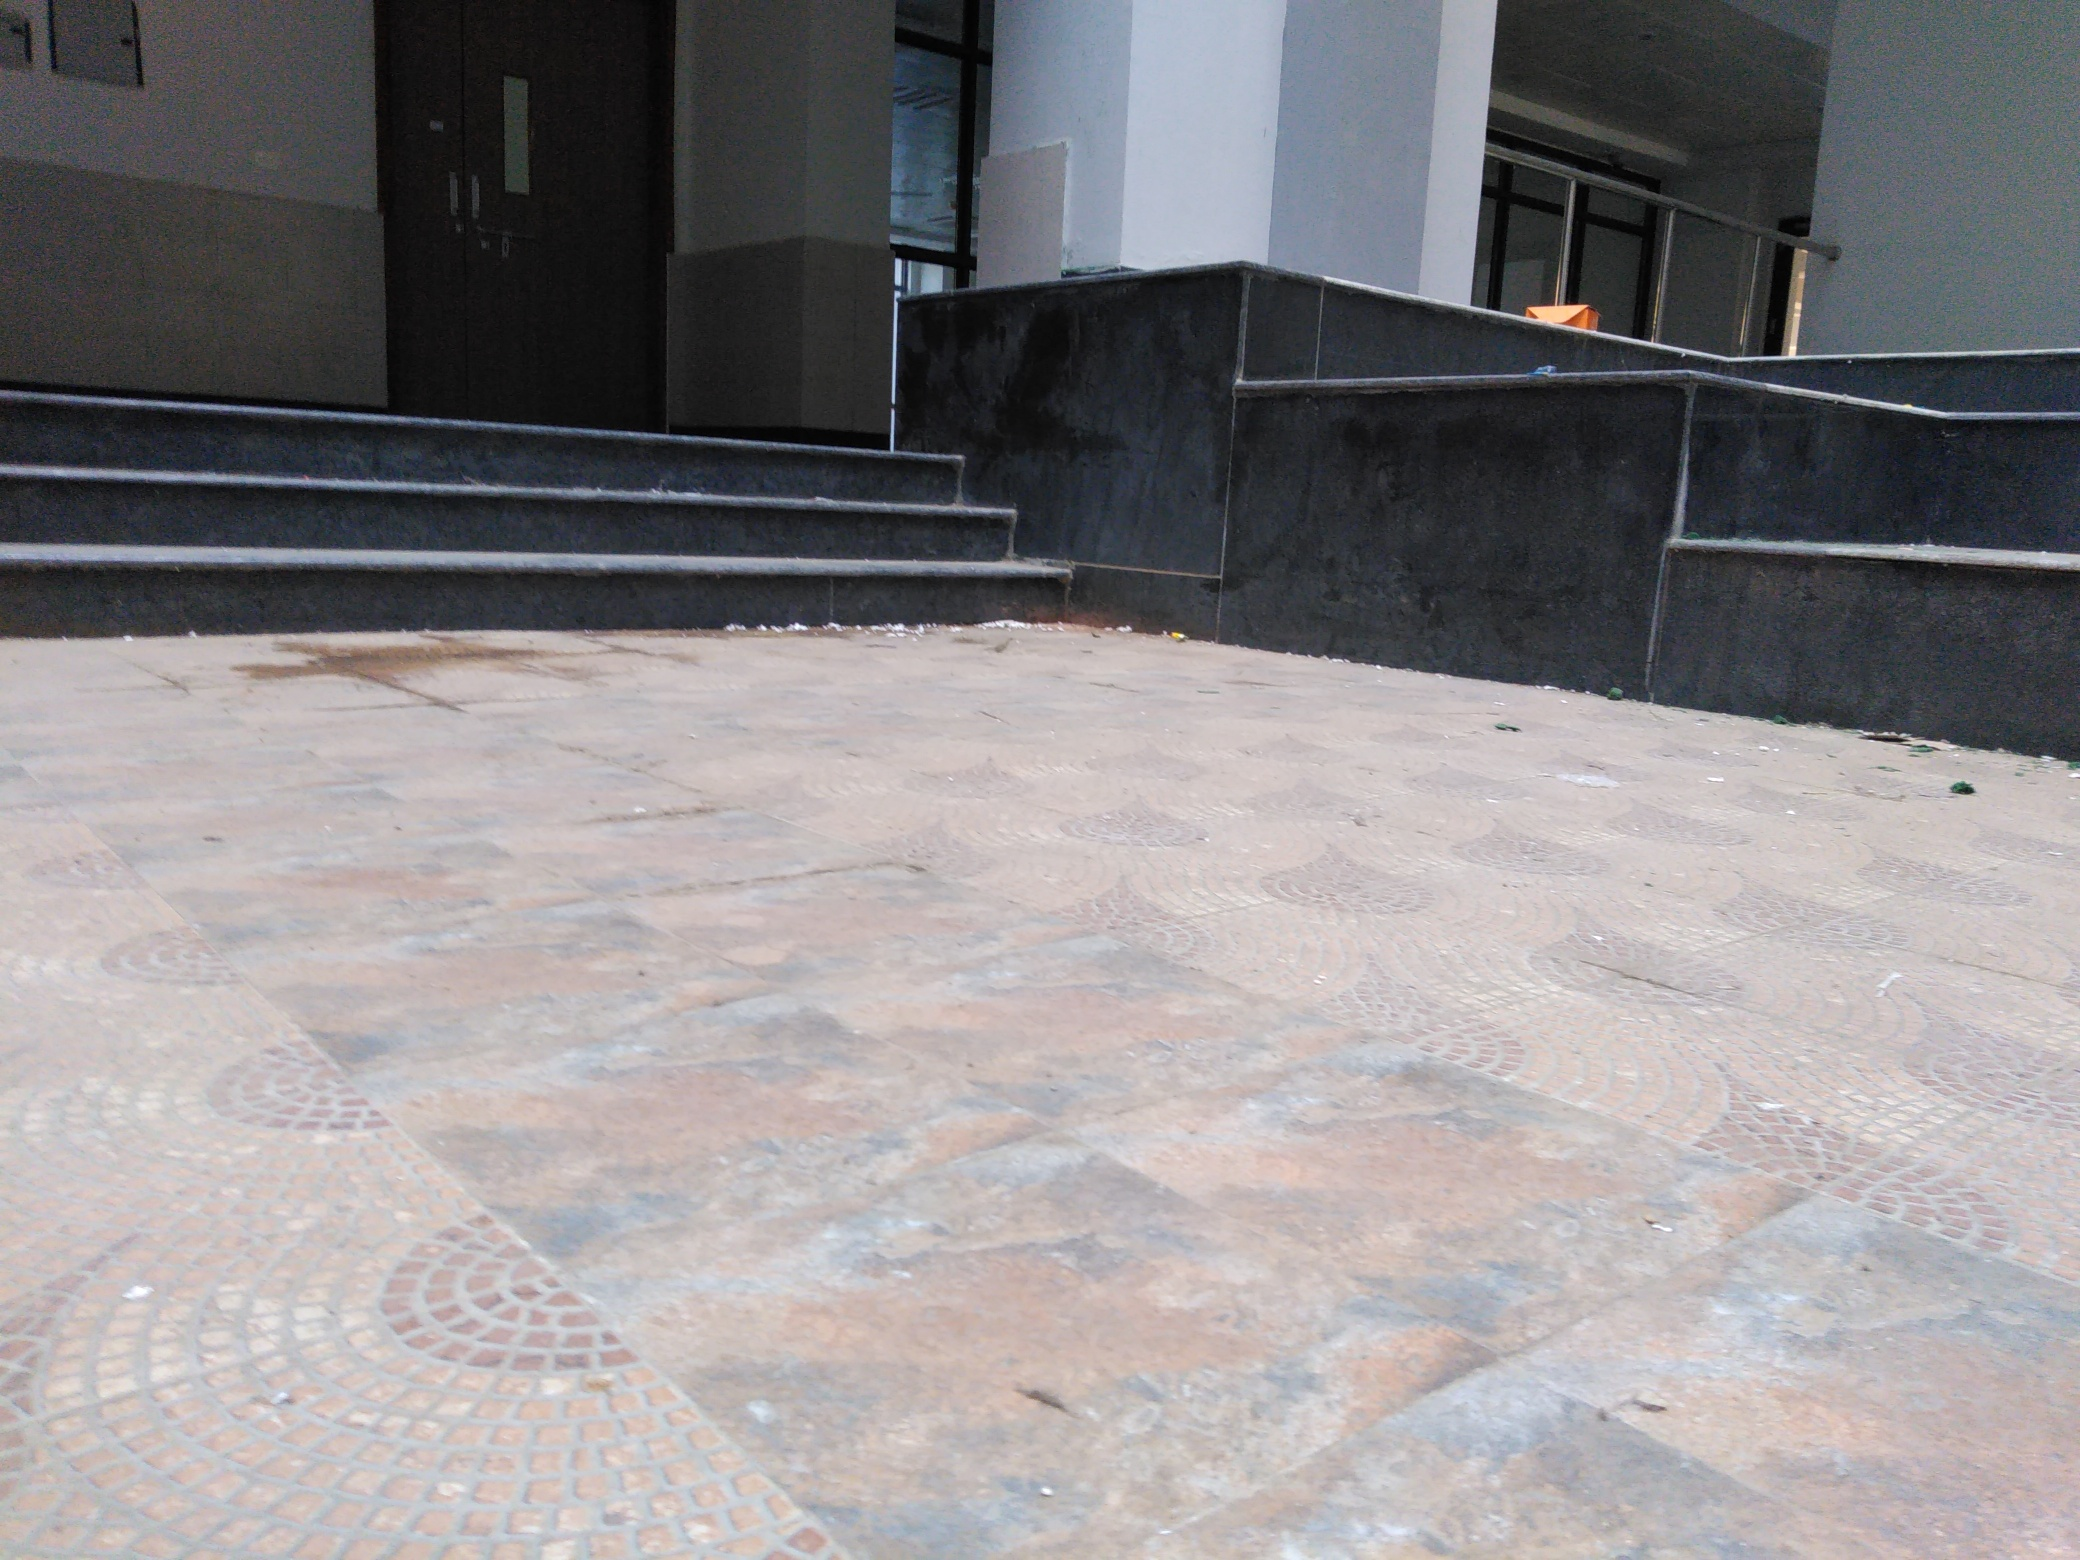stairs_up: (8, 387, 1068, 628)
